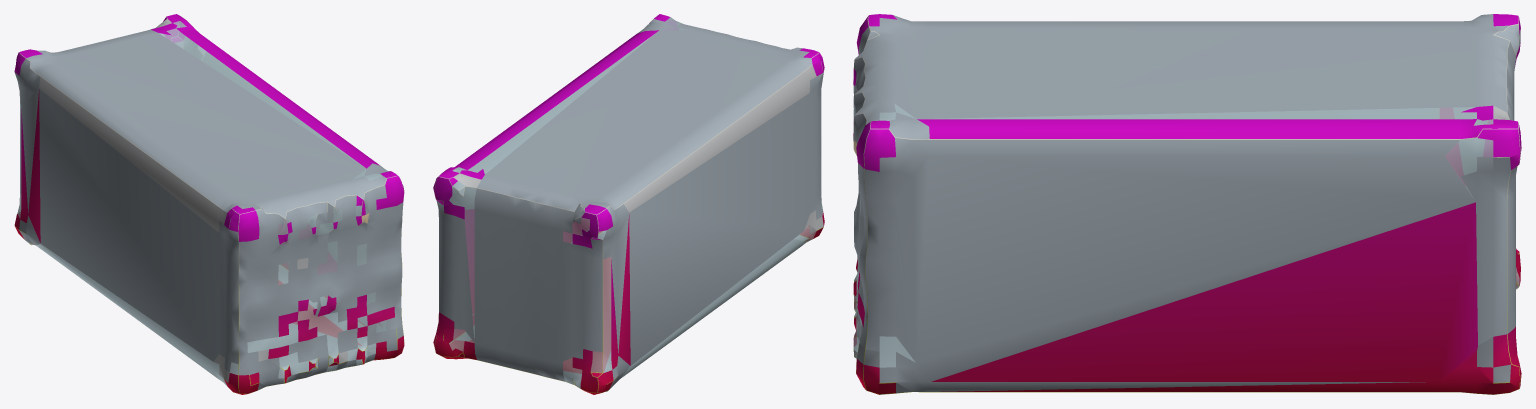
Rendered from cs_container_20.glb.
The picture shows the model from 3 angles, left to right: view 1: azimuth 30°, elevation 25°; view 2: azimuth 150°, elevation 25°; view 3: azimuth 270°, elevation 25°; orthographic projection. The views are drawn at different scales.
Visible parts, largest first — view 1: cs_container_20; view 2: cs_container_20; view 3: cs_container_20.
Part boxes in pixels (box(x1,y1,x2,y2)): cs_container_20: box(14, 14, 404, 394); cs_container_20: box(433, 14, 824, 394); cs_container_20: box(853, 14, 1521, 394).
Bounding box in the file's own units: 2.55 × 2.59 × 5.75.
